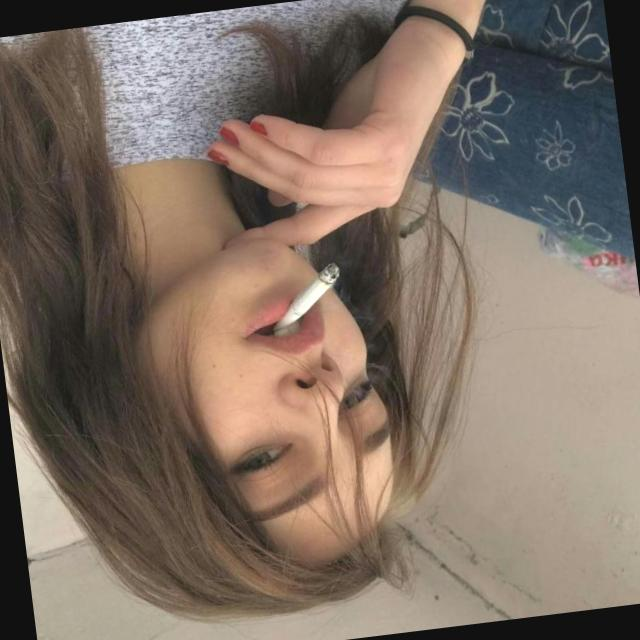cigarette: (264, 260, 348, 336)
